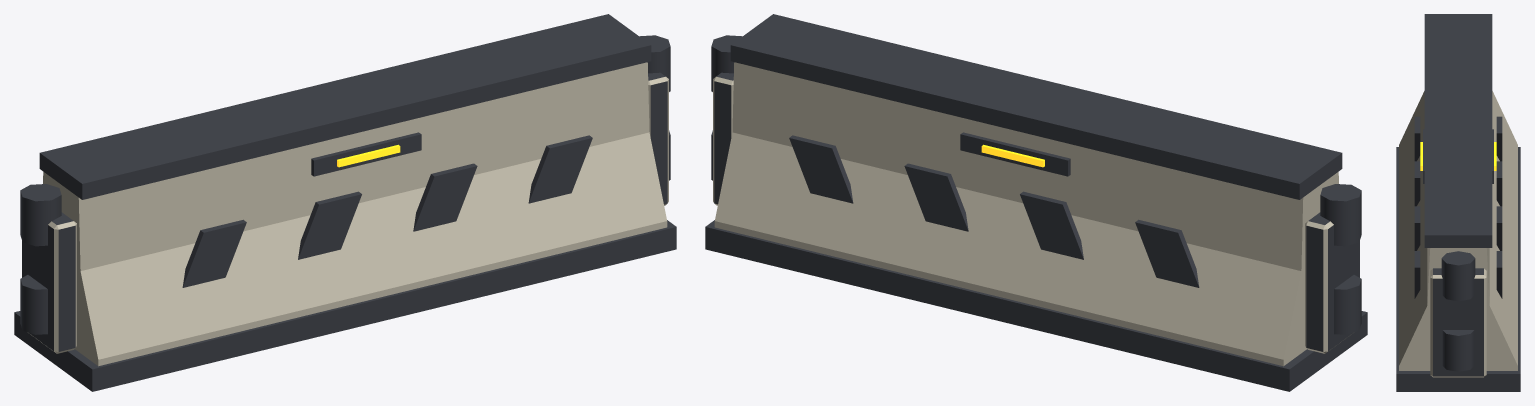
File: barrier_segment.glb
3 views of the same model, side by side, from view 1: azimuth 30°, elevation 25°; view 2: azimuth 150°, elevation 25°; view 3: azimuth 270°, elevation 25° (orthographic). The views are drawn at different scales.
Visible parts, largest first — view 1: barrier_segment; view 2: barrier_segment; view 3: barrier_segment.
Part boxes in pixels (x1,y1,x2,y2): barrier_segment: (14, 14, 676, 391); barrier_segment: (705, 14, 1367, 391); barrier_segment: (1396, 14, 1520, 391).
Size of the model in its own units: 4.2 by 1.2 by 0.88.
